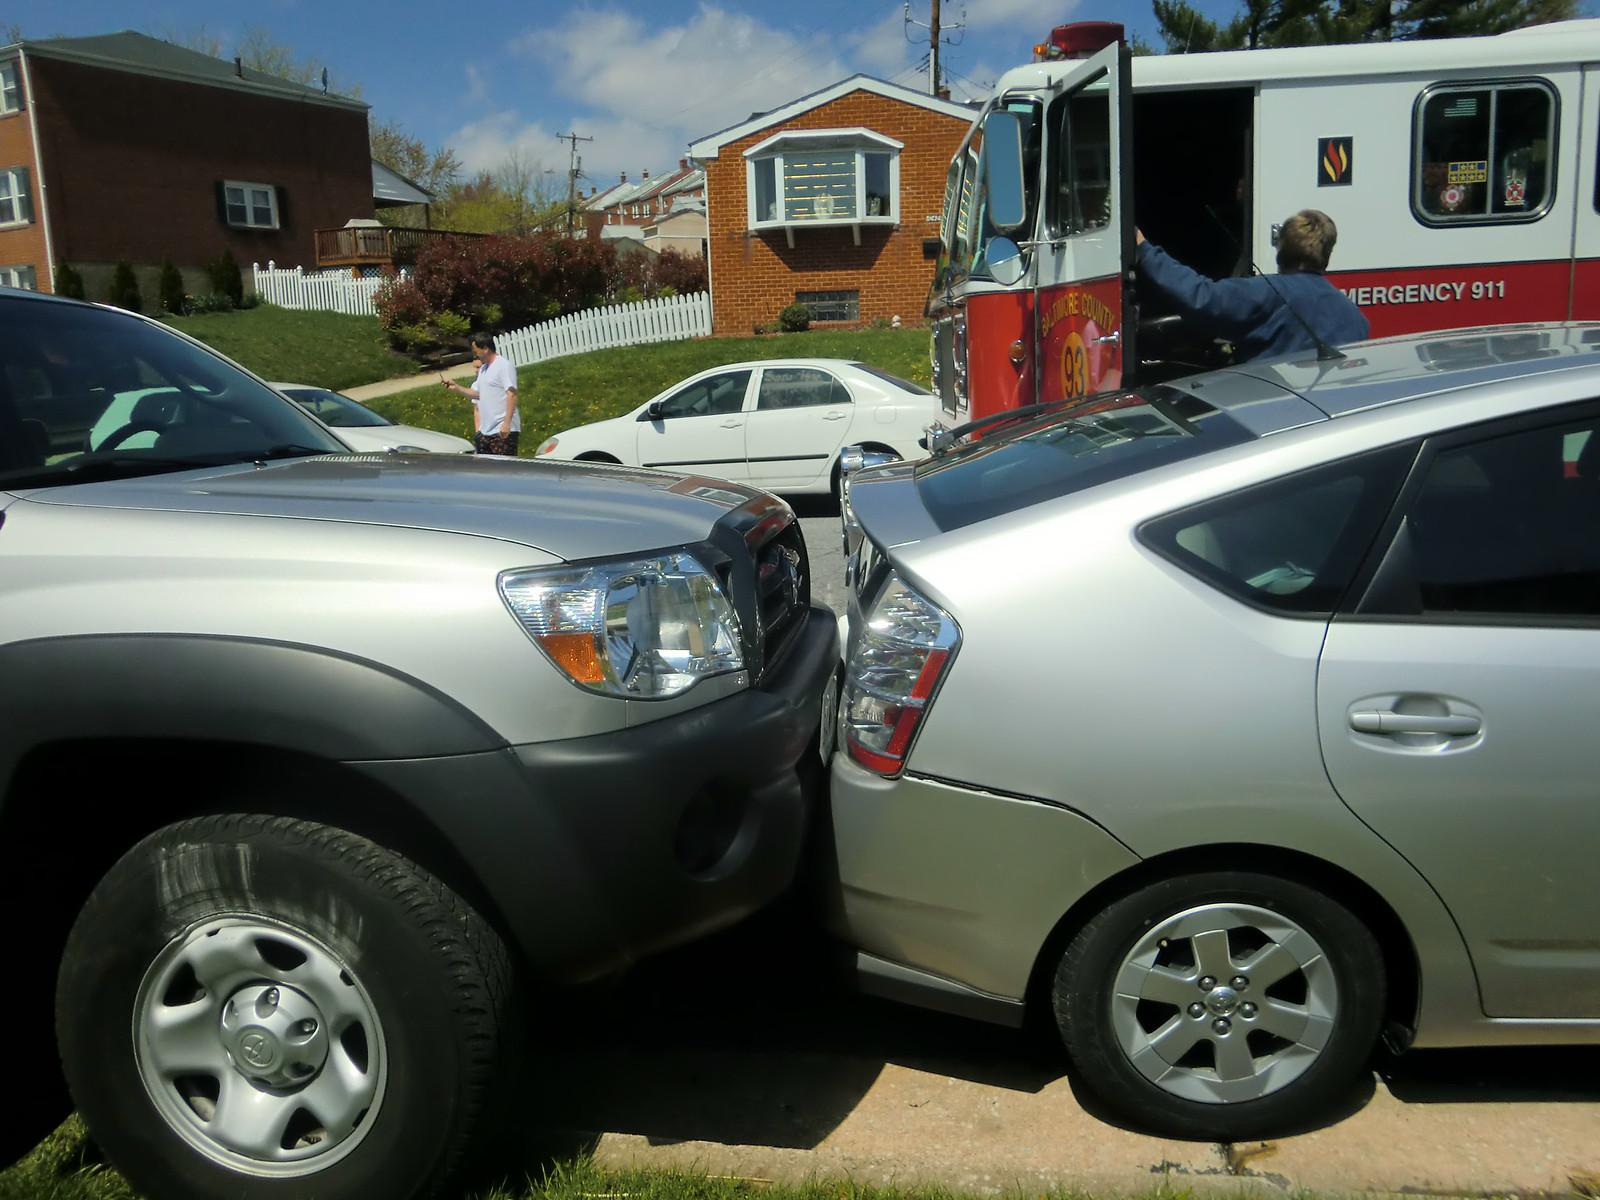front-bumper-dent: (615, 560, 842, 1006)
quaterpanel-dent: (835, 633, 1194, 945)
